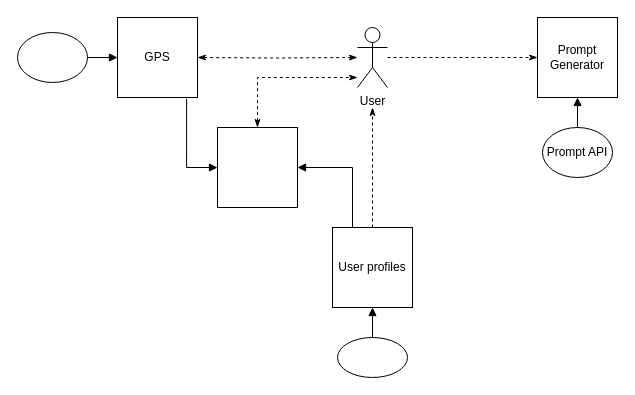
Some shapes in this 635 by 395 pixel diagram are drawn without their labels. The shapes that lost their labels are listed below. From the top down, each one's centre as x and y in pixels, then its label:
pixel 52 57: Google Maps
pixel 257 167: Dispatcher
pixel 372 357: Database
